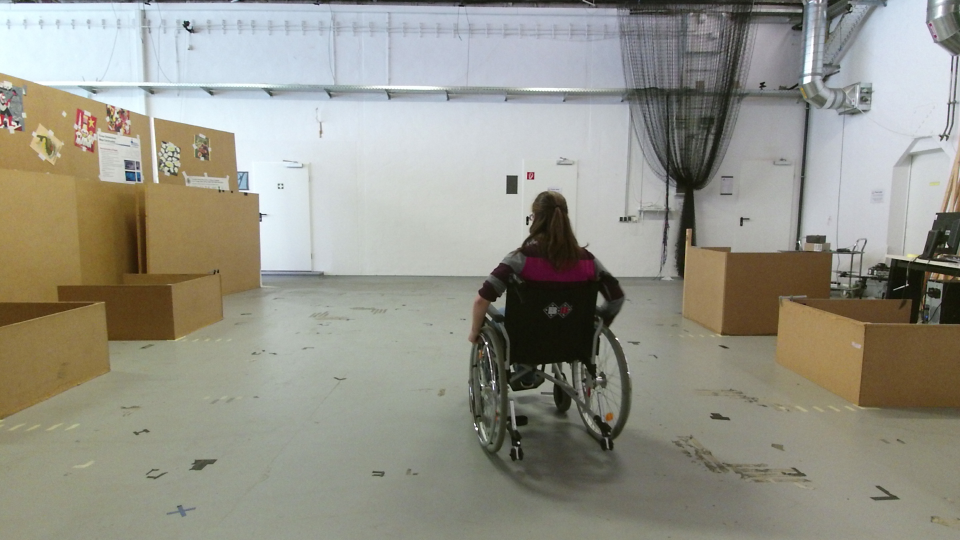wheelchair: (462, 185, 637, 469)
